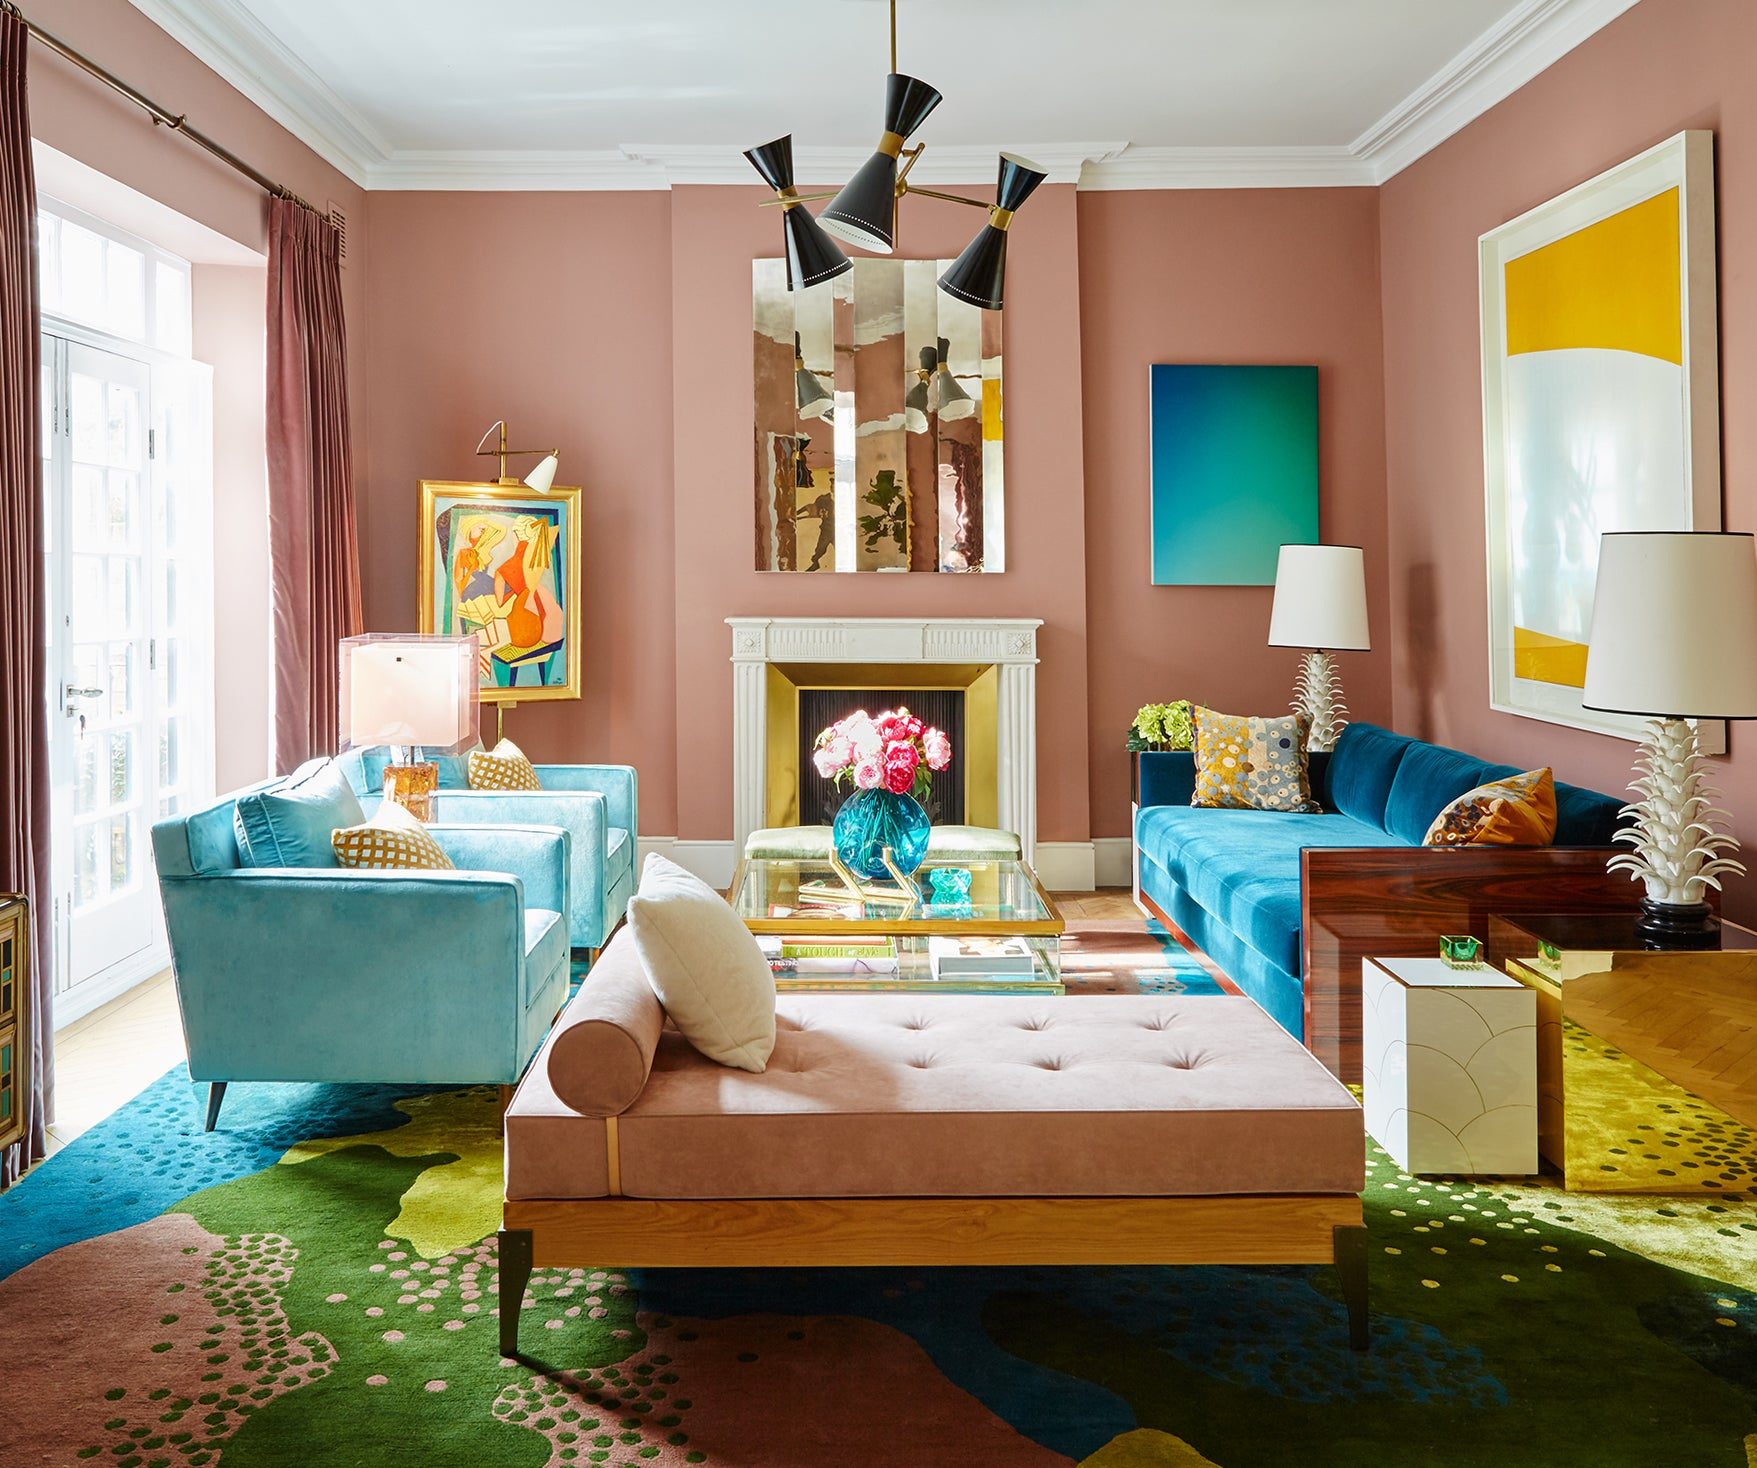biru: (163, 765, 556, 1073), (1153, 757, 1303, 963), (839, 792, 930, 876)
coklat: (506, 1201, 1364, 1265)
hitam: (827, 79, 940, 239), (941, 155, 1043, 312), (749, 140, 848, 289)
pink: (811, 706, 946, 789)
putih: (1588, 524, 1757, 731), (633, 849, 782, 1068), (1261, 533, 1375, 655)
